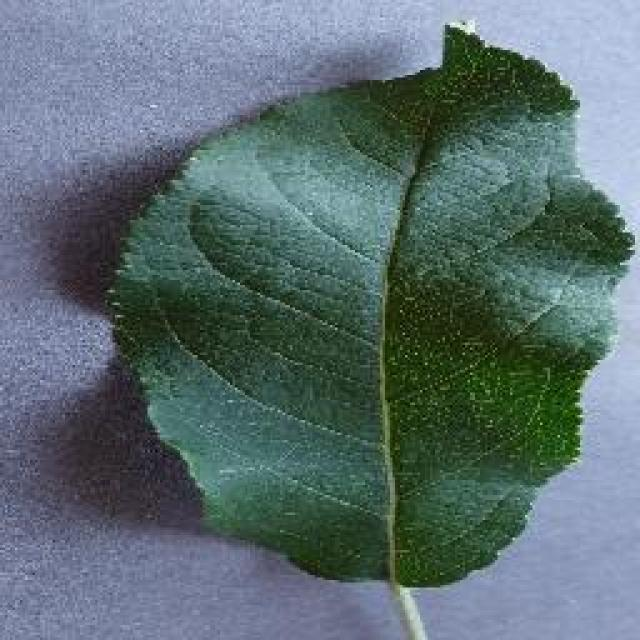apple healthy: (100, 18, 635, 592)
